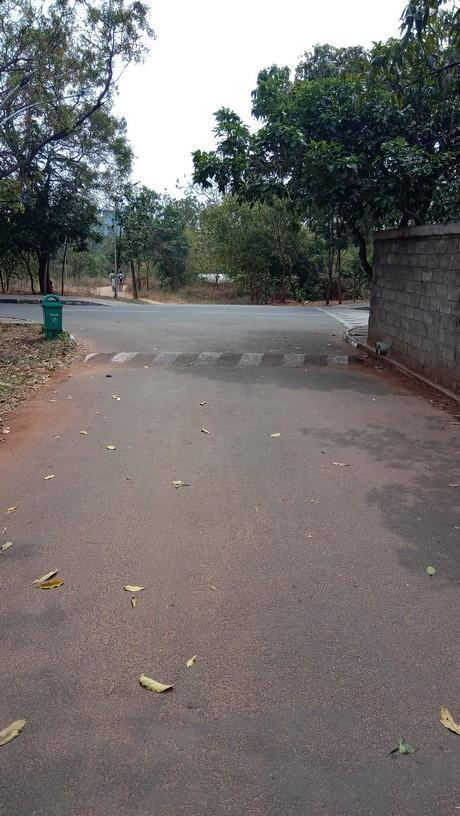speedbreaker: (80, 341, 372, 374)
